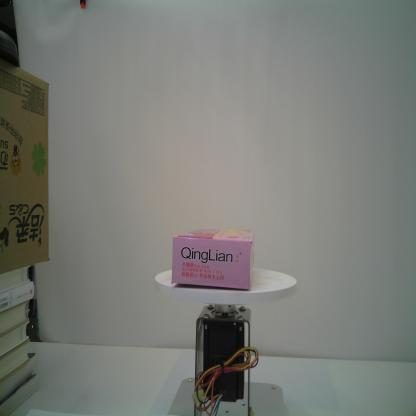Dessert: (171, 227, 256, 291)
